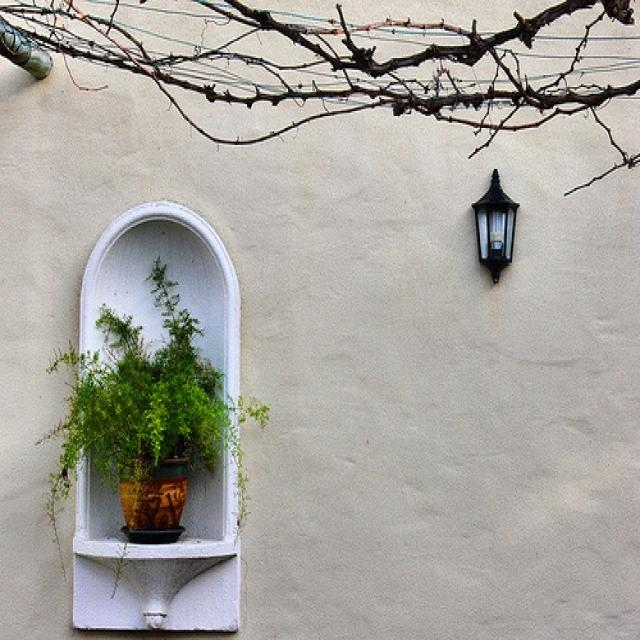pottedplant: (54, 259, 272, 543)
